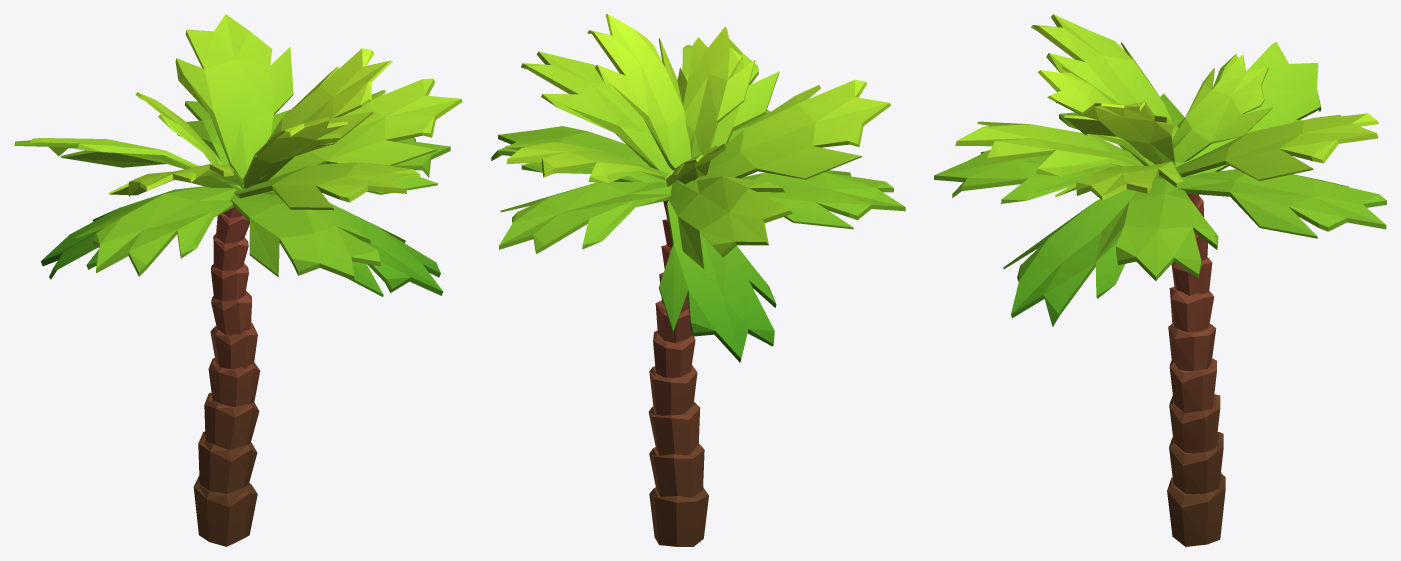
The picture shows the model from 3 angles, left to right: view 1: azimuth 30°, elevation 25°; view 2: azimuth 150°, elevation 25°; view 3: azimuth 270°, elevation 25°; orthographic projection. The views are drawn at different scales.
Parts seen in each view (by area): view 1: Palmtree1; view 2: Palmtree1; view 3: Palmtree1.
Boxes of the visible parts, box(x1,y1,x2,y2) form: Palmtree1: box(14, 14, 462, 546); Palmtree1: box(491, 14, 905, 546); Palmtree1: box(934, 14, 1386, 546).
Size of the model in its own units: 211 by 250 by 208.
1 material, 1 textured.
